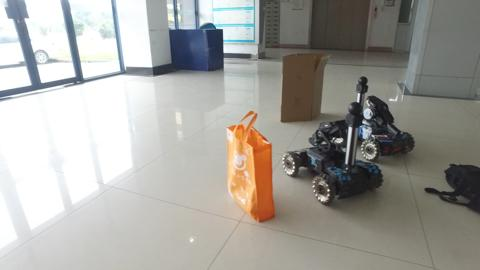bag: (229, 105, 275, 221)
box: (280, 52, 323, 120)
chariot: (285, 102, 388, 205), (354, 70, 419, 161)
